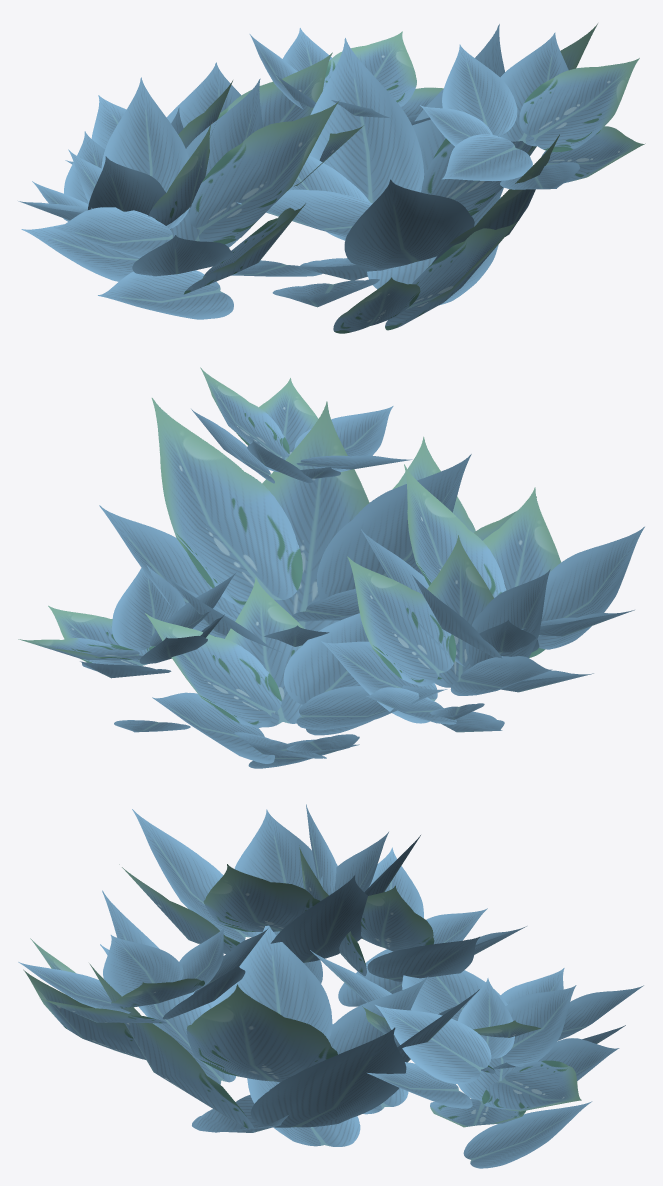
Rendered from bush_5_petit.fbx.
3 views of the same model, one above another, from view 1: azimuth 30°, elevation 25°; view 2: azimuth 150°, elevation 25°; view 3: azimuth 270°, elevation 25° (orthographic). The views are drawn at different scales.
Visible parts, largest first — view 1: feuillage_5_petit; view 2: feuillage_5_petit; view 3: feuillage_5_petit.
Boxes of the visible parts, x1,y1,x2,y2 form: feuillage_5_petit: (18, 23, 645, 333); feuillage_5_petit: (18, 367, 644, 768); feuillage_5_petit: (18, 804, 643, 1168).
Size of the model in its own units: 119 by 52.02 by 119.
